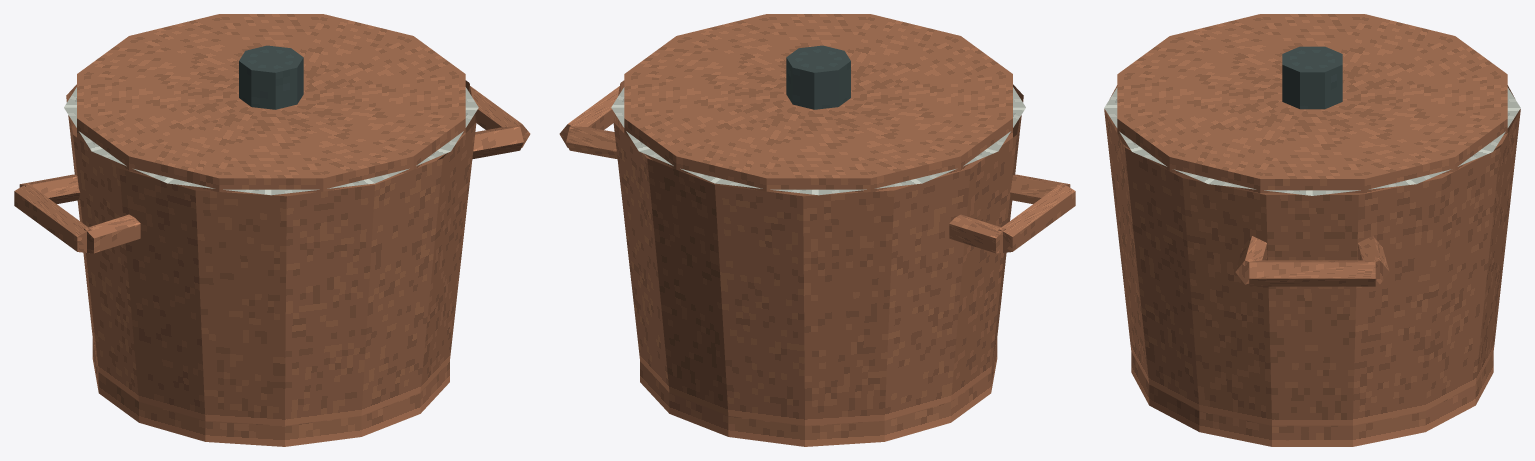
File: pot_copper.glb
The picture shows the model from 3 angles, left to right: view 1: azimuth 30°, elevation 25°; view 2: azimuth 150°, elevation 25°; view 3: azimuth 270°, elevation 25°; orthographic projection.
Visible parts, largest first — view 1: block_vessel wall, block_lid, block_pressed base, block_knob, block_side grip -1 1, block_side grip -1 2, block_side grip 1 2, block_side grip 1 1, block_side grip -1 0; view 2: block_vessel wall, block_lid, block_pressed base, block_knob, block_side grip -1 1, block_side grip -1 0, block_side grip 1 0, block_side grip 1 1, block_side grip -1 2; view 3: block_vessel wall, block_lid, block_pressed base, block_knob, block_side grip 1 1, block_side grip 1 0, block_side grip 1 2.
Boxes of the visible parts, box(x1,y1,x2,y2) form: block_vessel wall: box(66, 80, 476, 425); block_lid: box(77, 14, 465, 196); block_pressed base: box(92, 339, 449, 446); block_knob: box(239, 45, 303, 109); block_side grip -1 1: box(14, 183, 91, 253); block_side grip -1 2: box(84, 214, 140, 253); block_side grip 1 2: box(472, 126, 523, 159); block_side grip 1 1: box(470, 86, 530, 147); block_side grip -1 0: box(19, 174, 80, 203); block_vessel wall: box(613, 80, 1023, 425); block_lid: box(624, 14, 1012, 196); block_pressed base: box(640, 339, 997, 446); block_knob: box(786, 45, 850, 109); block_side grip -1 1: box(998, 183, 1075, 253); block_side grip -1 0: box(949, 214, 1005, 253); block_side grip 1 0: box(566, 126, 617, 159); block_side grip 1 1: box(559, 86, 619, 147); block_side grip -1 2: box(1009, 174, 1070, 203); block_vessel wall: box(1104, 85, 1520, 425); block_lid: box(1117, 14, 1507, 194); block_pressed base: box(1131, 352, 1493, 446); block_knob: box(1282, 46, 1342, 109); block_side grip 1 1: box(1249, 260, 1375, 286); block_side grip 1 0: box(1357, 236, 1389, 284); block_side grip 1 2: box(1235, 236, 1267, 284).
Size of the model in its own units: 0.23 by 0.1511 by 0.1824.
Materials: 2 (2 with a texture image).
